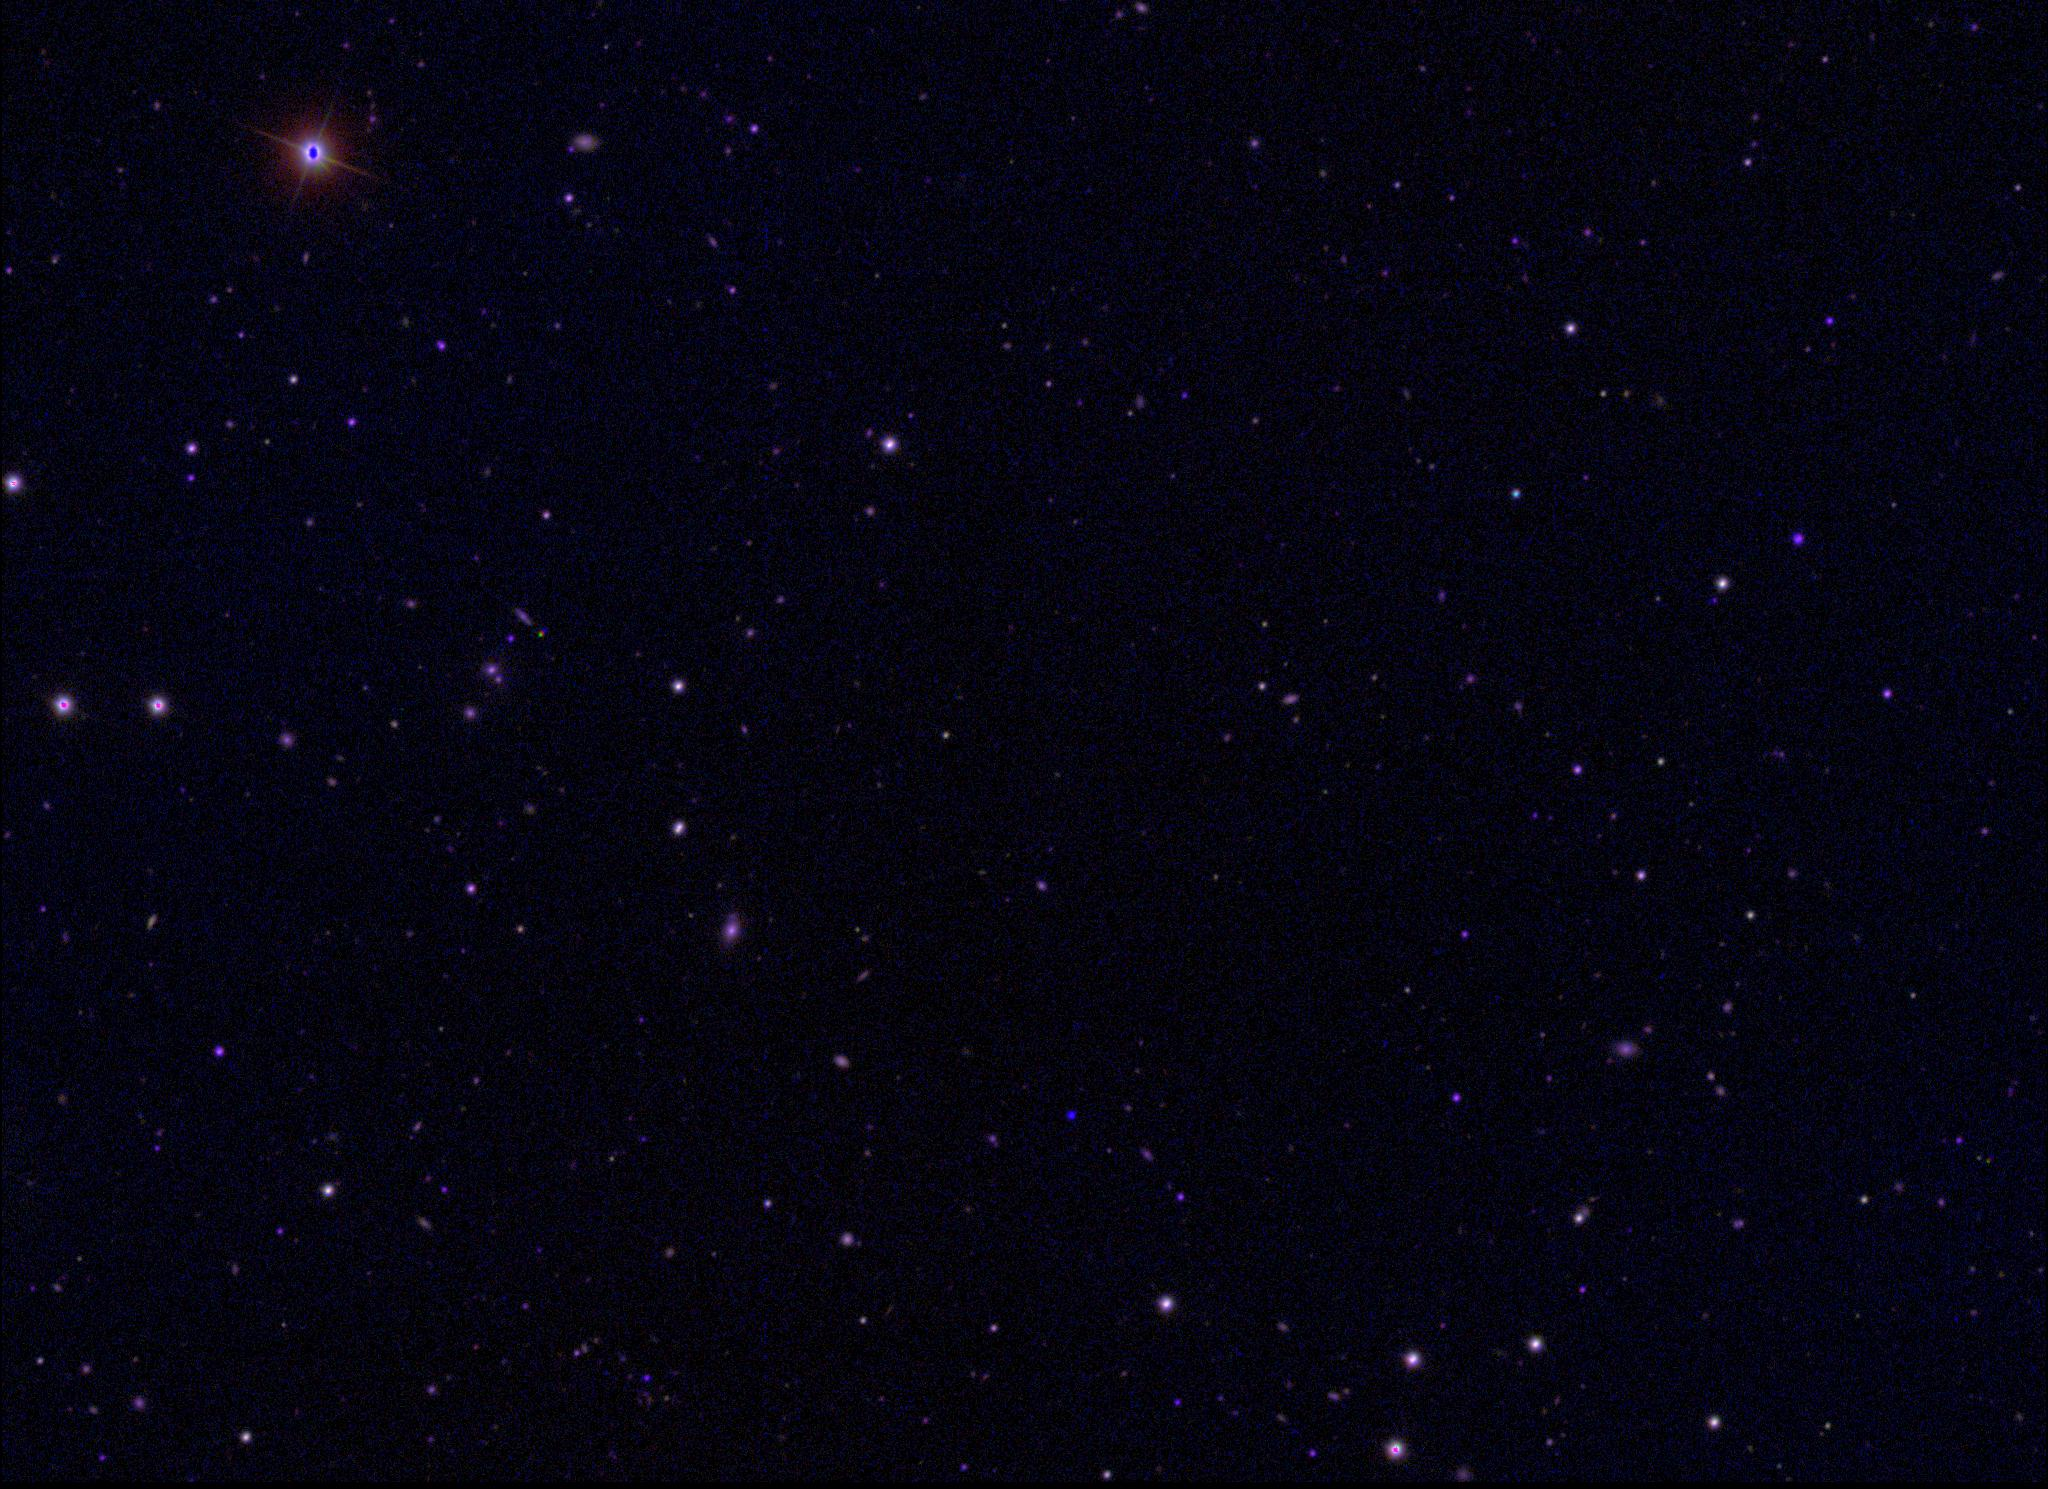L: (1065, 1107, 1080, 1122)
